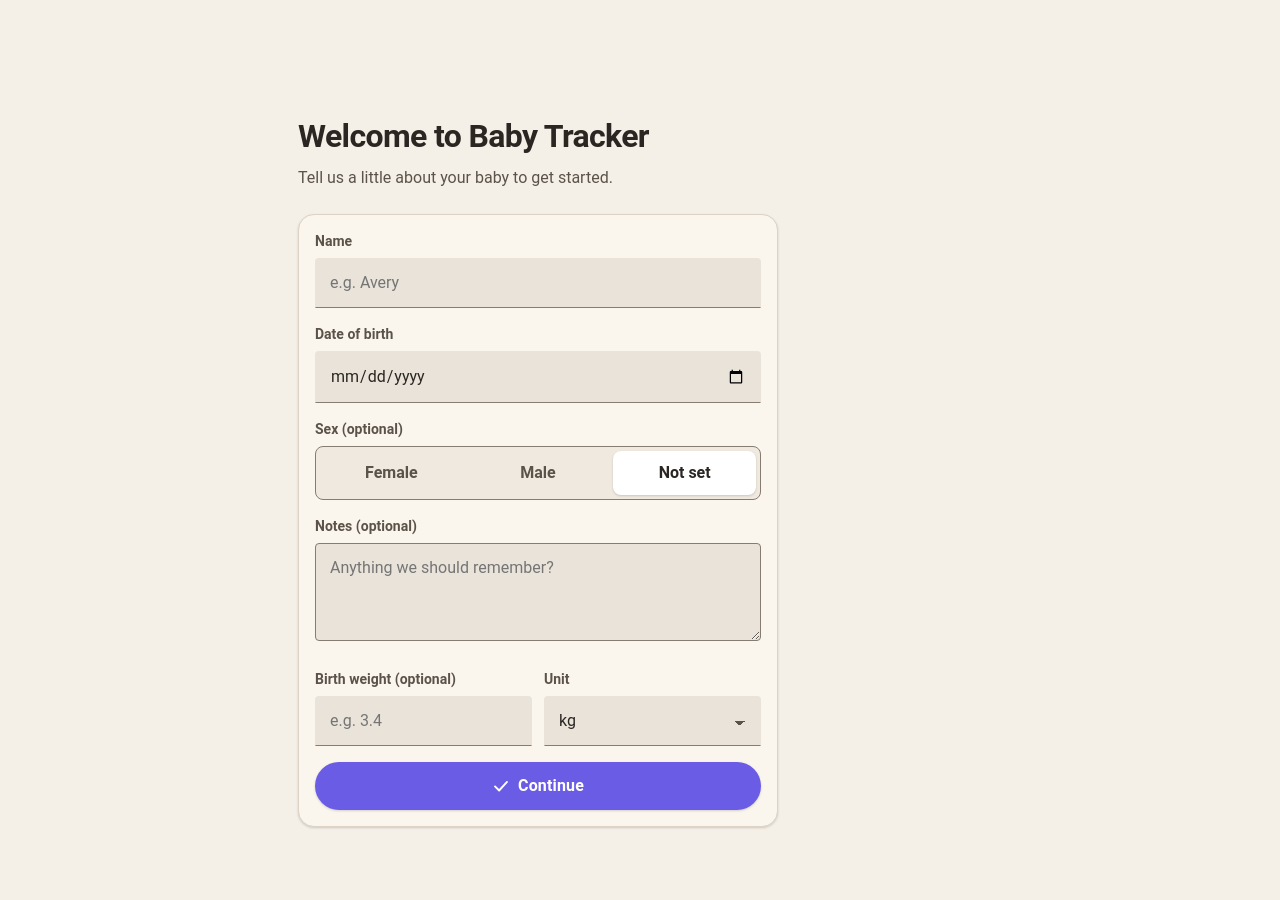
Test: Offline/online multi-device sync (comprehensive) › replays an offline settings change and a fresh device sees it
Type "Avery" into the field labelled "Name".
click(538, 283); type("Avery")  # box [315, 258, 761, 308]
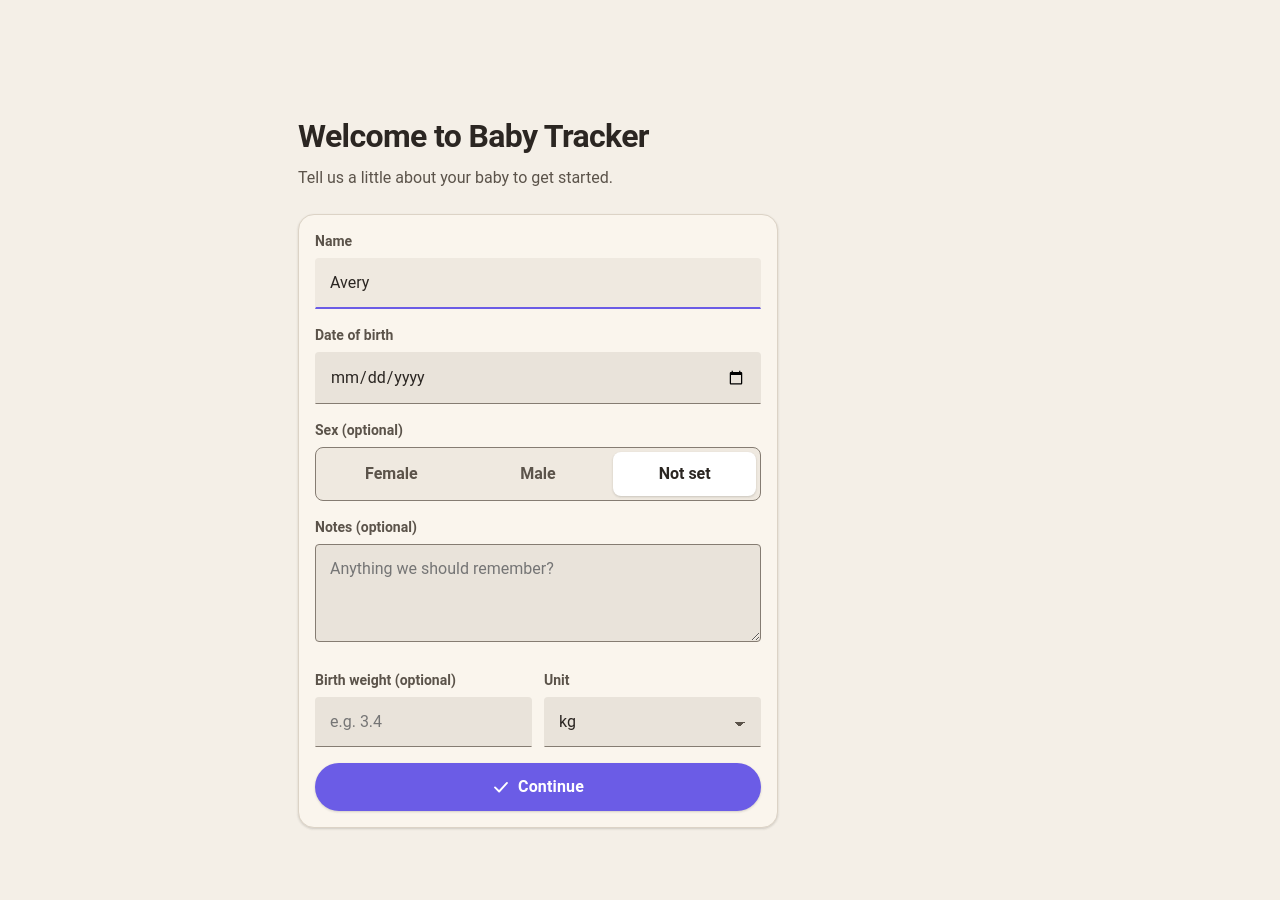
Type "2026-01-15" into the date field labelled "Date of birth".
click(538, 378); type("2026-01-15")  # box [315, 352, 761, 404]
Click the button "Continue".
click(538, 787)  # box [315, 763, 761, 811]
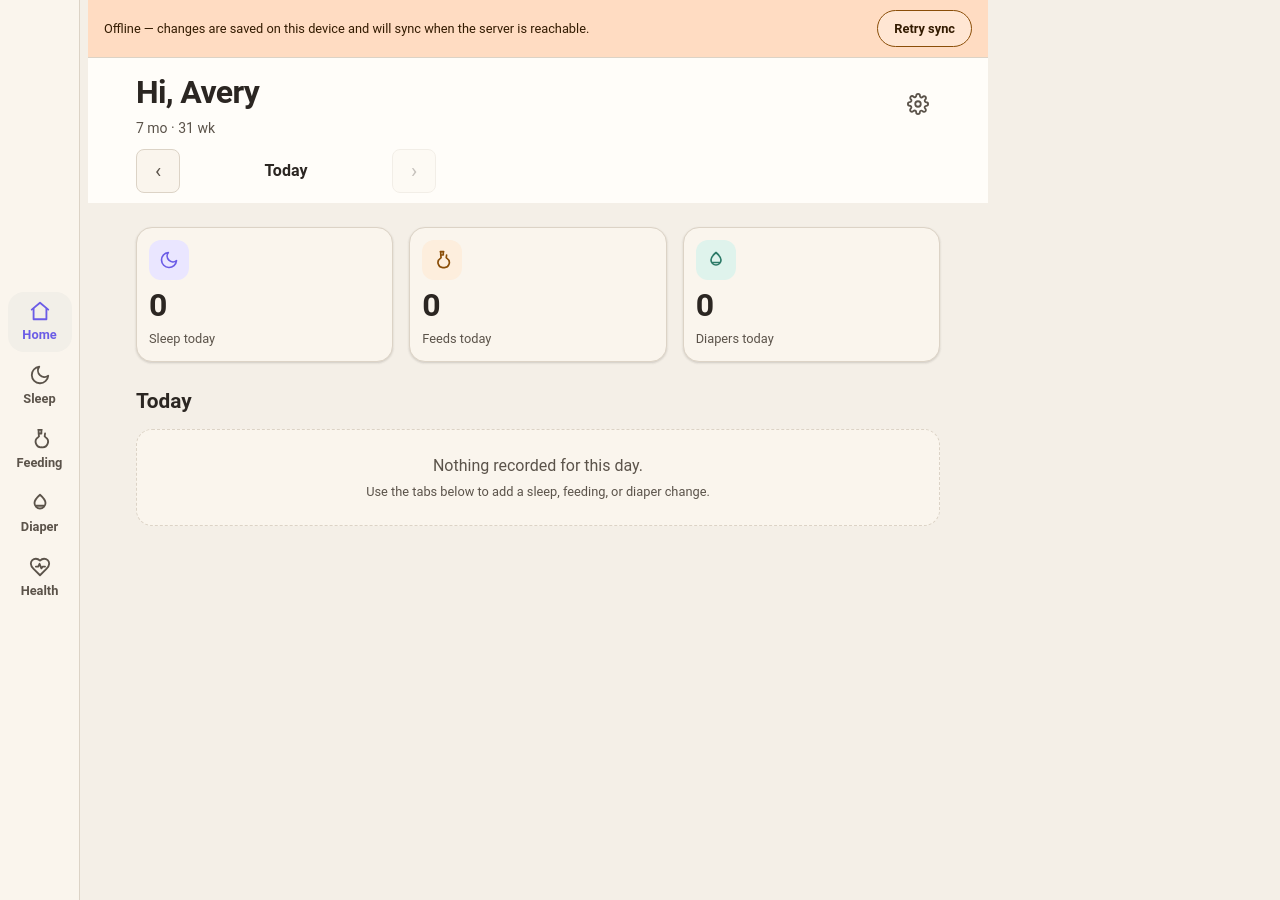
Click the button named "settings".
click(918, 104)  # box [896, 82, 940, 126]
(page scrolled)
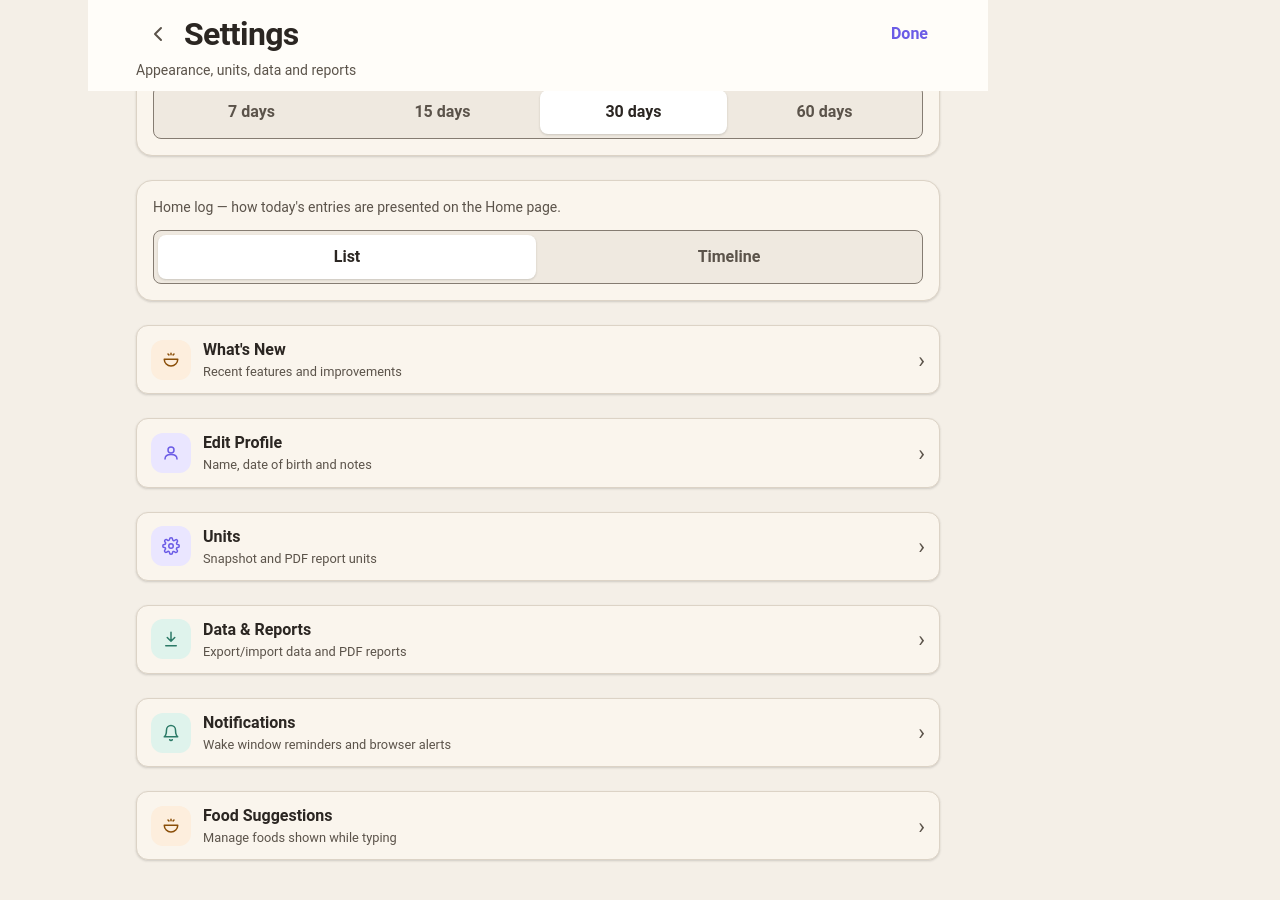
Click the button "Food suggestions Manage foods shown while typing ›".
click(171, 826)  # box [136, 791, 940, 860]
(page scrolled)
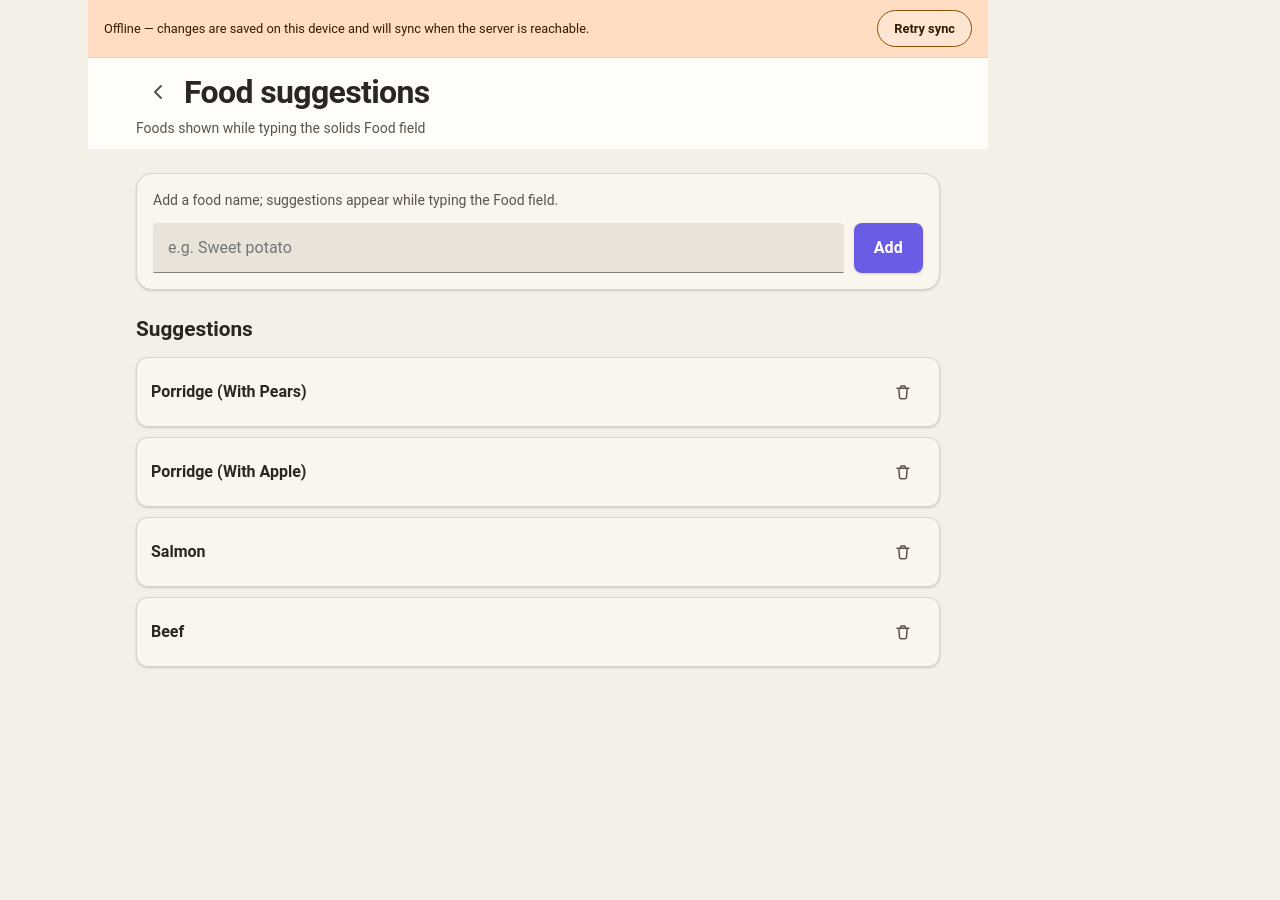
Type "sweet potato" into the field named "new food suggestion".
click(498, 248); type("sweet potato")  # box [153, 223, 844, 273]
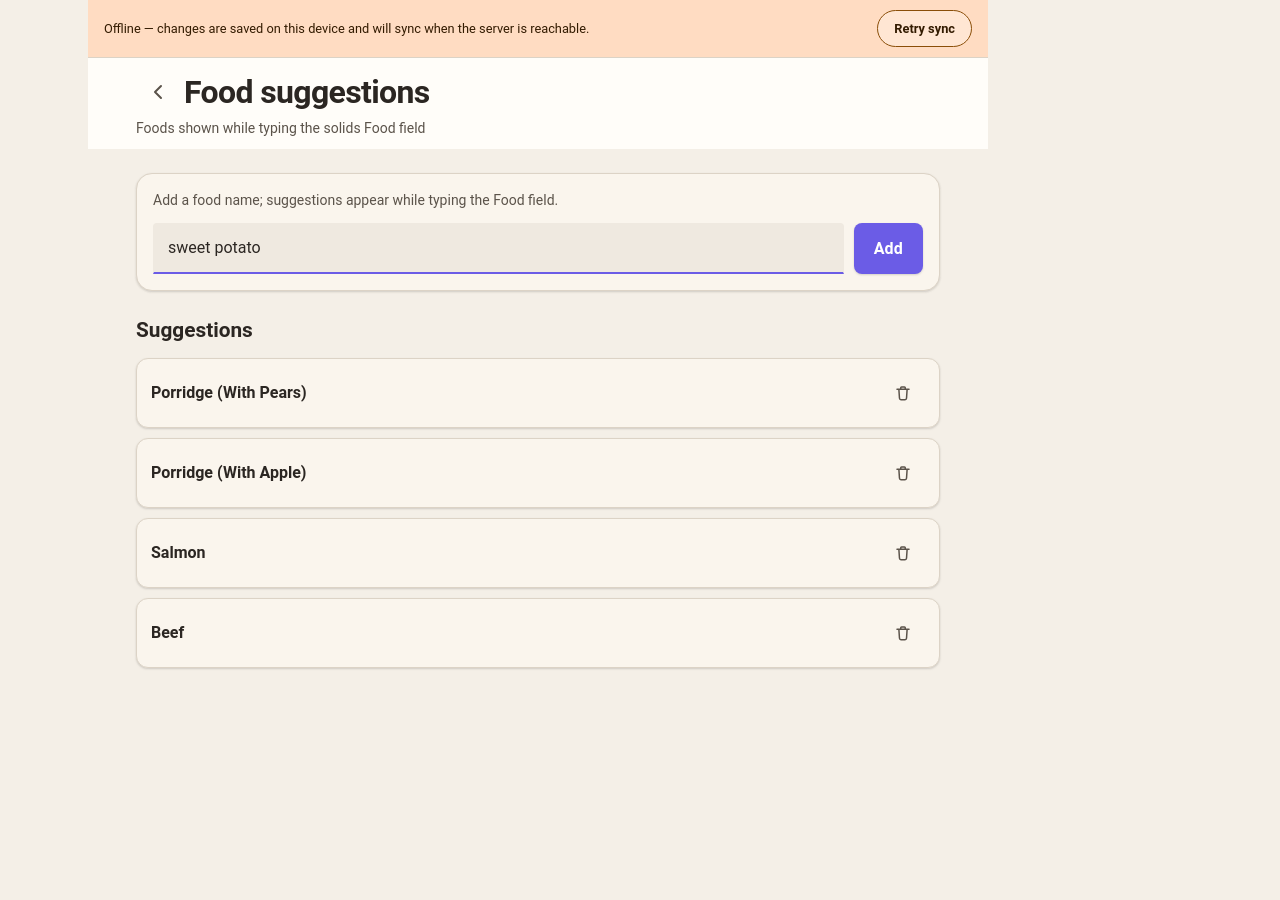
Click the button "Add".
click(888, 249)  # box [854, 223, 923, 274]
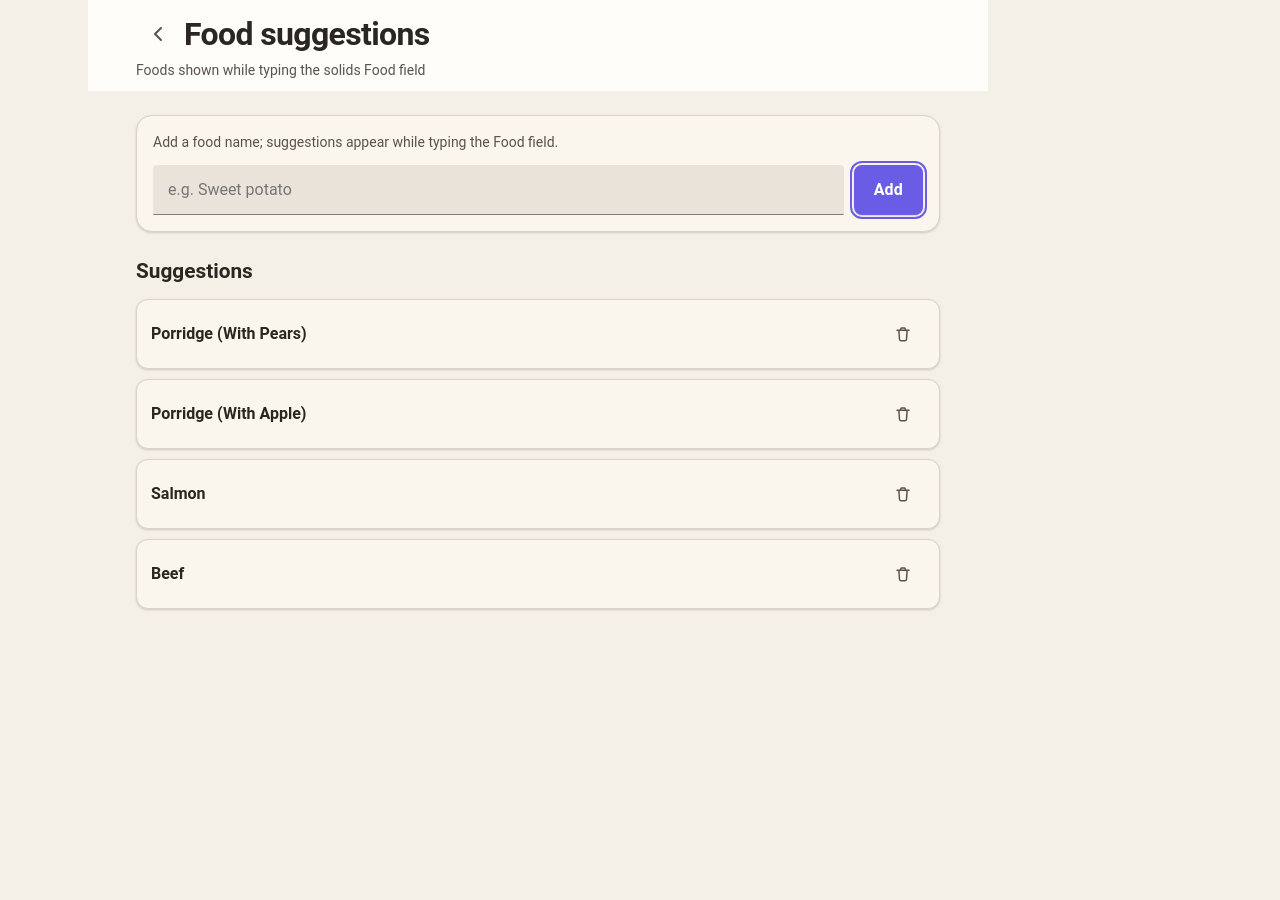
Check: the message with test id "offline-banner" is gone
